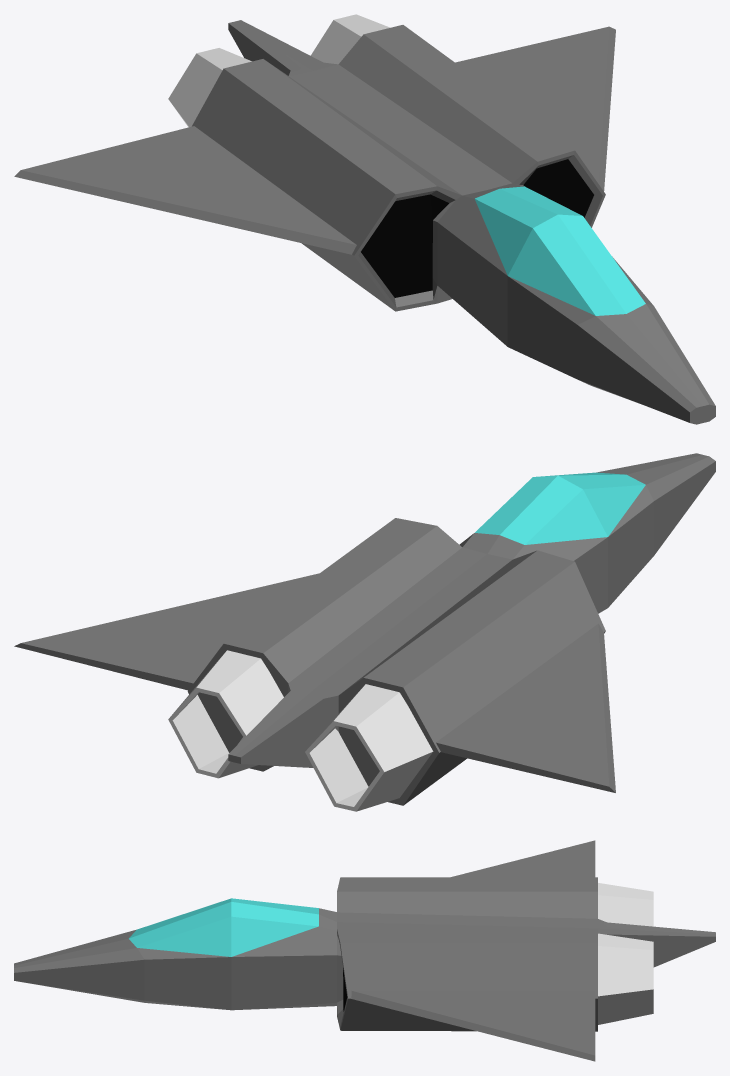
Rendered from jet.glb.
3 renders of one model, top to bottom at view 1: azimuth 30°, elevation 25°; view 2: azimuth 150°, elevation 25°; view 3: azimuth 270°, elevation 25°, orthographic. The views are drawn at different scales.
Parts seen in each view (by area): view 1: Cube.001, Cube.002, Circle; view 2: Cube.001, Cube.002, Circle; view 3: Cube.001, Cube.002, Circle.
Boxes of the visible parts, x1,y1,x2,y2 form: Cube.001: (192, 20, 715, 424); Cube.002: (14, 26, 615, 254); Circle: (168, 14, 389, 127); Cube.001: (187, 453, 715, 805); Cube.002: (14, 573, 615, 792); Circle: (168, 650, 433, 811); Cube.001: (14, 877, 715, 1031); Cube.002: (351, 840, 595, 1061); Circle: (598, 883, 653, 1024).
Size of the model in its own units: 12 by 3.22 by 16.18.
